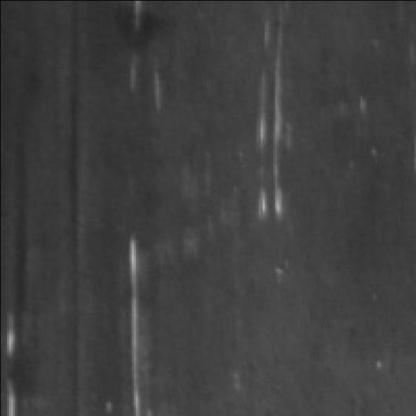inclusion: (13, 8, 86, 406)
scratches: (249, 15, 296, 216), (118, 222, 154, 414)
